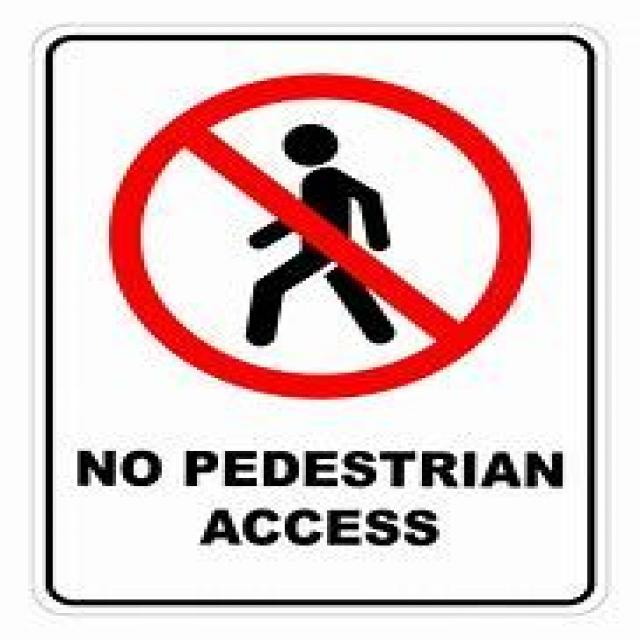PEDESTRIAN_PROHIBITED: (102, 67, 527, 397)
